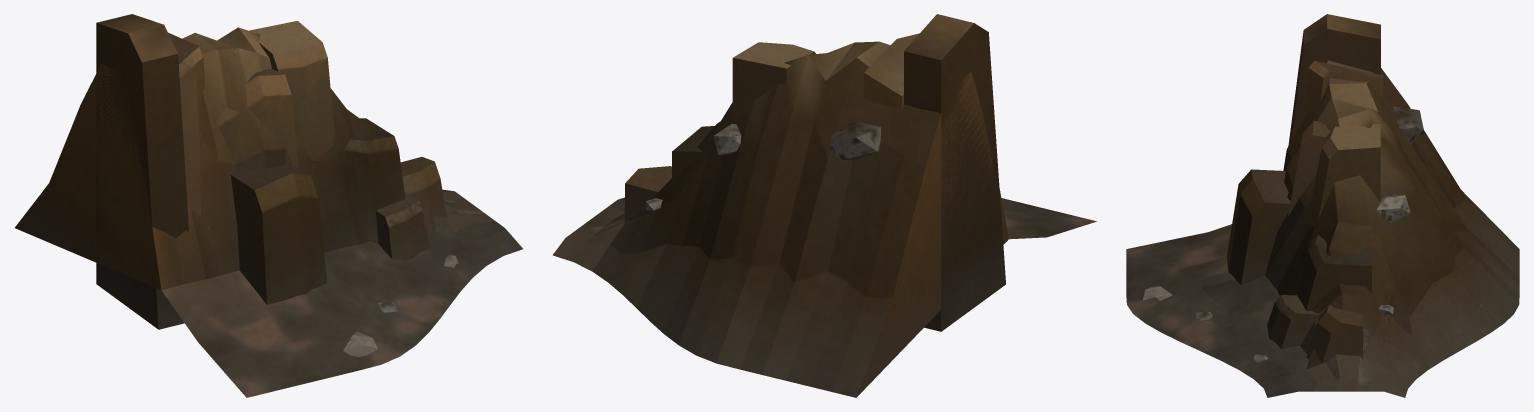
The model's file is cliff-exit-1.glb.
3 renders of one model, left to right at view 1: azimuth 30°, elevation 25°; view 2: azimuth 150°, elevation 25°; view 3: azimuth 270°, elevation 25°, orthographic. The views are drawn at different scales.
Visible parts, largest first — view 1: cliff-exit-1; view 2: cliff-exit-1; view 3: cliff-exit-1.
Boxes of the visible parts, x1=… form: cliff-exit-1: x1=15, y1=14, x2=522, y2=397; cliff-exit-1: x1=553, y1=14, x2=1096, y2=397; cliff-exit-1: x1=1126, y1=14, x2=1519, y2=397.
Size of the model in its own units: 3 by 2.21 by 3.35.
3 materials, 3 textured.
